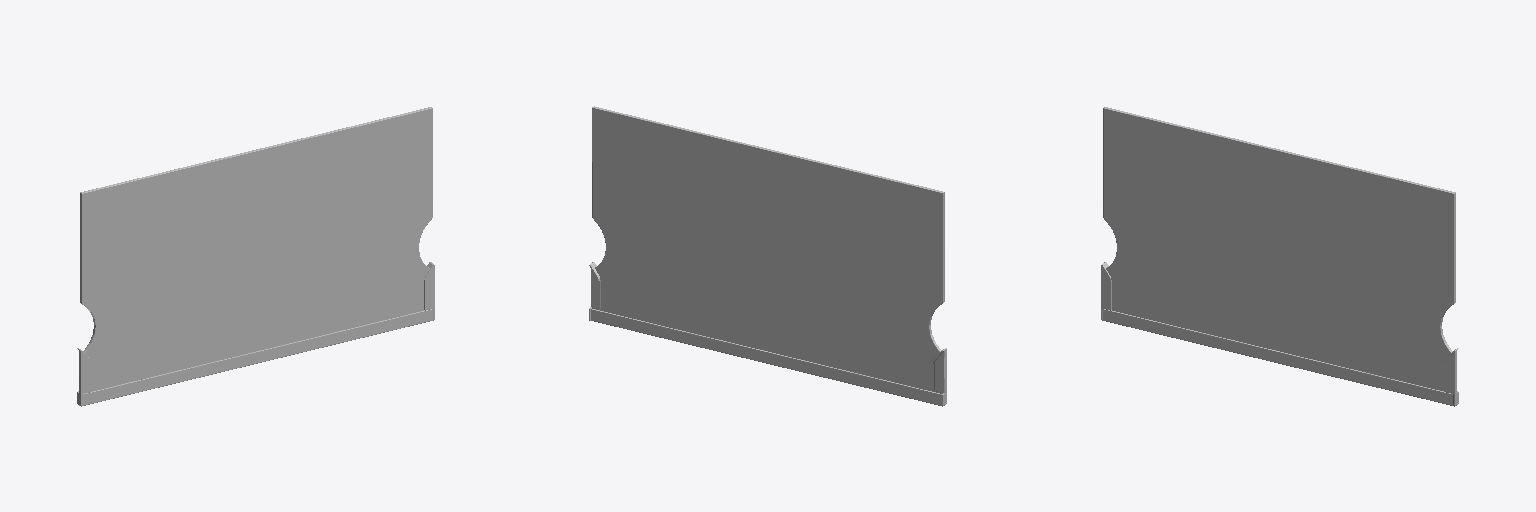
The model's file is SM_Fridge_Shelf.obj.
The picture shows the model from 3 angles: view 1: azimuth 30°, elevation 25°; view 2: azimuth 150°, elevation 25°; view 3: azimuth 330°, elevation 25°; orthographic projection.
Visible parts, largest first — view 1: SM_Fridge_Shelf; view 2: SM_Fridge_Shelf; view 3: SM_Fridge_Shelf.
Boxes of the visible parts, box(x1,y1,x2,y2) form: SM_Fridge_Shelf: box(77, 107, 434, 406); SM_Fridge_Shelf: box(589, 106, 946, 406); SM_Fridge_Shelf: box(1101, 107, 1458, 406).
Bounding box in the file's own units: 0.4684 × 0.2682 × 0.01.